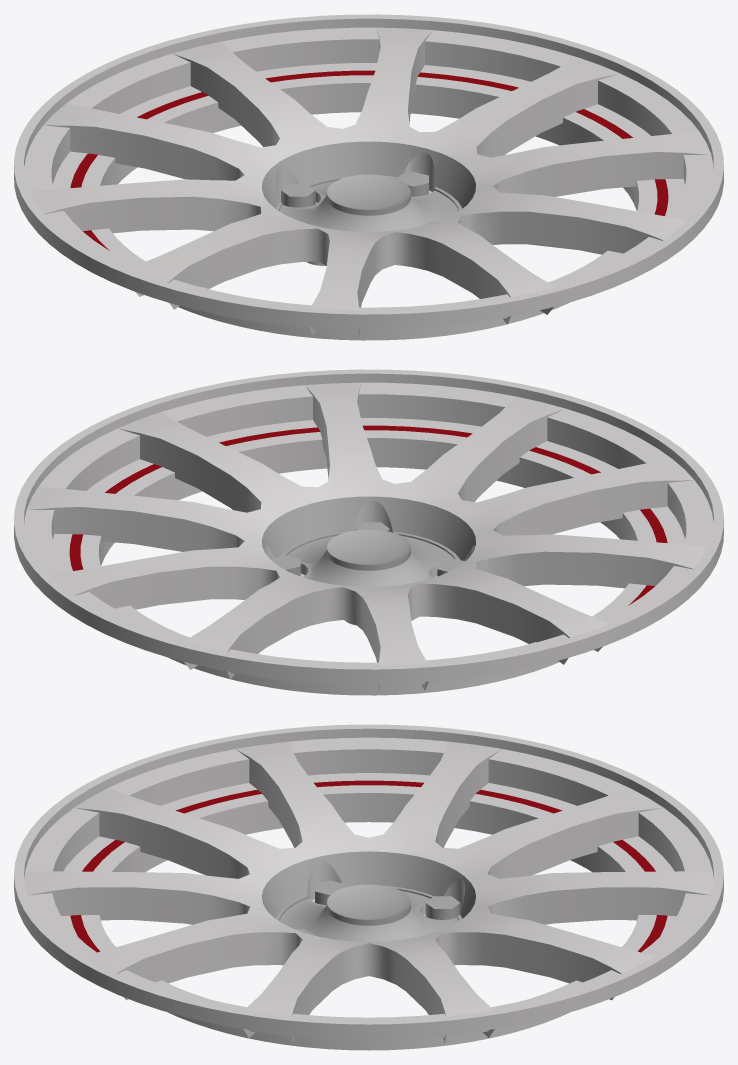
Rendered from sakura.fbx.
3 views of the same model, one above another, from view 1: azimuth 30°, elevation 25°; view 2: azimuth 150°, elevation 25°; view 3: azimuth 270°, elevation 25° (orthographic).
Visible parts, largest first — view 1: Sakura; view 2: Sakura; view 3: Sakura.
Boxes of the visible parts, <box> form: Sakura: <box>14,14,723,340</box>; Sakura: <box>14,369,723,695</box>; Sakura: <box>14,724,723,1050</box>.
Bounding box in the file's own units: 9996 × 968 × 9996.
